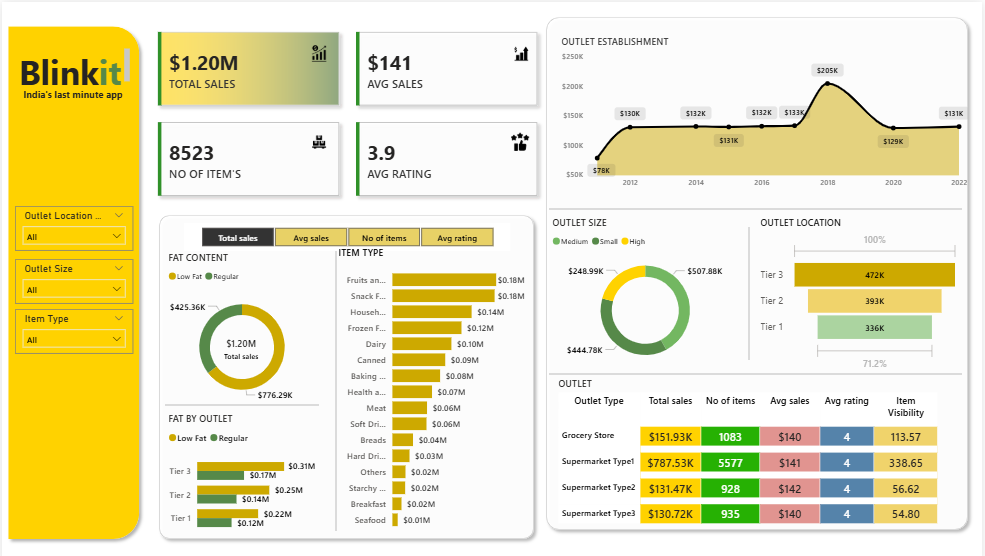

Layout of this report page (visuals, bound fields, positions):
{"tool":"powerbi","page":{"name":"Page 1","canvas":[1400,800],"ordinal":0},"visuals":[{"type":"shape","box":[0,25.3,205,750.6],"z":0},{"type":"textbox","box":[18.8,61.2,168.8,65],"z":1000},{"type":"textbox","box":[25.5,118.2,153.6,28.2],"z":2000},{"type":"cardVisual","fields":{"Data":["BlinkIT Grocery Data.Total sales","BlinkIT Grocery Data.Avg sales","BlinkIT Grocery Data.No of items","BlinkIT Grocery Data.Avg rating"]},"box":[205.2,25.3,576.3,269.9],"z":3000},{"type":"image","box":[440,61.7,26.7,24.2],"z":4000},{"type":"image","box":[731.7,60.8,20.8,25],"z":5000},{"type":"image","box":[440,190,25,20],"z":6000},{"type":"image","box":[726.7,185.8,25.8,28.3],"z":7000},{"type":"shape","box":[215.7,295.7,552.9,480],"z":8000},{"type":"donutChart","title":"FAT CONTENT","fields":{"Y":["BlinkIT Grocery Data.Total sales"],"Category":["BlinkIT Grocery Data.Item Fat Content"]},"box":[232.5,356.2,220,230],"z":9000},{"type":"slicer","fields":{"Values":["Matrices.Matrices"]},"box":[260,315.7,465.7,40],"z":10000},{"type":"cardVisual","fields":{"Data":["BlinkIT Grocery Data.Total sales"]},"box":[274.3,455.7,135.7,80],"z":11000},{"type":"clusteredBarChart","title":"FAT BY OUTLET","fields":{"Y":["BlinkIT Grocery Data.Total sales"],"Category":["BlinkIT Grocery Data.Outlet Location Type"],"Series":["BlinkIT Grocery Data.Item Fat Content"]},"box":[232.9,585.7,220,184.3],"z":12000},{"type":"shape","box":[232.9,555.7,220,40],"z":13000},{"type":"shape","box":[466.9,356.2,20,400],"z":14000},{"type":"barChart","title":"ITEM TYPE","fields":{"Y":["BlinkIT Grocery Data.Total sales"],"Category":["BlinkIT Grocery Data.Item Type"]},"box":[475.5,349.1,276.4,414.5],"z":15000},{"type":"shape","box":[768.6,12.9,620,750],"z":16000},{"type":"lineChart","title":"OUTLET ESTABLISHMENT","fields":{"Y":["BlinkIT Grocery Data.Total sales"],"Category":["BlinkIT Grocery Data.Outlet Establishment Year"]},"box":[794.3,47.1,590,228.6],"z":17000},{"type":"shape","box":[781.7,275,590,40],"z":18000},{"type":"donutChart","title":"OUTLET SIZE","fields":{"Y":["BlinkIT Grocery Data.Total sales"],"Category":["BlinkIT Grocery Data.Outlet Size"]},"box":[781.7,305,275,225],"z":19000},{"type":"shape","box":[1057.1,321.4,20,190],"z":20000},{"type":"funnel","title":"OUTLET LOCATION","fields":{"Y":["Sum(BlinkIT Grocery Data.Sales)"],"Category":["BlinkIT Grocery Data.Outlet Location Type"]},"box":[1078.6,305.7,292.9,225.7],"z":21000},{"type":"shape","box":[781.4,511.4,590,40],"z":22000},{"type":"pivotTable","title":"OUTLET","fields":{"Rows":["BlinkIT Grocery Data.Outlet Type"],"Values":["BlinkIT Grocery Data.Total sales","BlinkIT Grocery Data.No of items","BlinkIT Grocery Data.Avg sales","BlinkIT Grocery Data.Avg rating","Sum(BlinkIT Grocery Data.Item Visibility)"]},"box":[790,535.7,575.7,220],"z":23000},{"type":"slicer","fields":{"Values":["BlinkIT Grocery Data.Outlet Location Type"]},"box":[18.6,291.4,168.6,64.3],"z":24000},{"type":"slicer","fields":{"Values":["BlinkIT Grocery Data.Outlet Size"]},"box":[18.6,367.1,168.6,64.3],"z":25000},{"type":"slicer","fields":{"Values":["BlinkIT Grocery Data.Item Type"]},"box":[18.6,438.6,168.6,64.3],"z":26000}]}

Visuals, with their boxes in screenshot pixels (x1, y1, x2, y2), scaled from the page's 1400x800 canvas onto the 985x556 screenshot:
shape: (0,18,144,539)
textbox: (13,43,132,88)
textbox: (18,82,126,102)
cardVisual - BlinkIT Grocery Data.Total sales x BlinkIT Grocery Data.Avg sales: (144,18,550,205)
image: (310,43,328,60)
image: (515,42,529,60)
image: (310,132,327,146)
image: (511,129,529,149)
shape: (152,206,541,539)
"FAT CONTENT" donutChart: (164,248,318,407)
slicer - Matrices.Matrices: (183,219,511,247)
cardVisual - BlinkIT Grocery Data.Total sales: (193,317,288,372)
"FAT BY OUTLET" clusteredBarChart: (164,407,319,535)
shape: (164,386,319,414)
shape: (328,248,343,526)
"ITEM TYPE" barChart: (335,243,529,531)
shape: (541,9,977,530)
"OUTLET ESTABLISHMENT" lineChart: (559,33,974,192)
shape: (550,191,965,219)
"OUTLET SIZE" donutChart: (550,212,743,368)
shape: (744,223,758,355)
"OUTLET LOCATION" funnel: (759,212,965,369)
shape: (550,355,965,383)
"OUTLET" pivotTable: (556,372,961,525)
slicer - BlinkIT Grocery Data.Outlet Location Type: (13,203,132,247)
slicer - BlinkIT Grocery Data.Outlet Size: (13,255,132,300)
slicer - BlinkIT Grocery Data.Item Type: (13,305,132,350)
